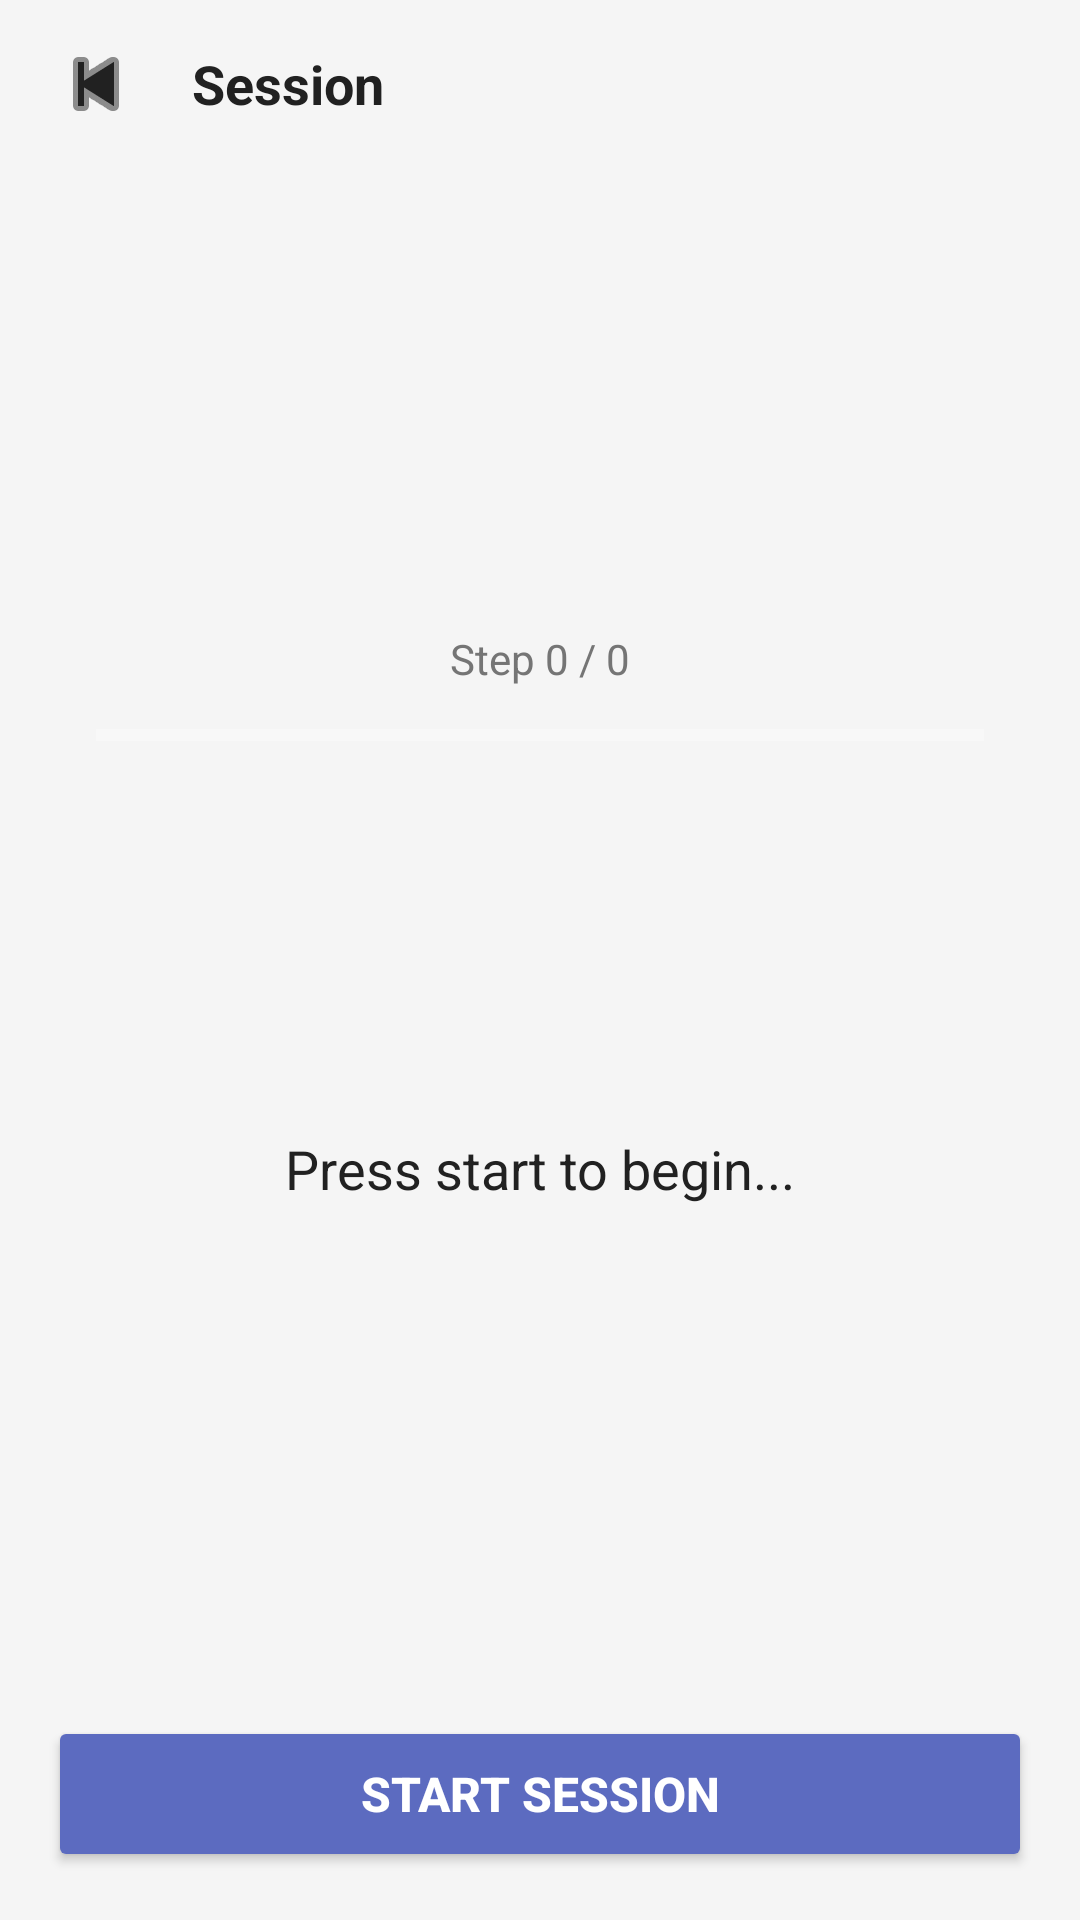

Locate icon controls on the screen. Image size 1080px×1920px, boxes as box=[x1, y1, x2, y2].
previous: box=[73, 57, 119, 111]
